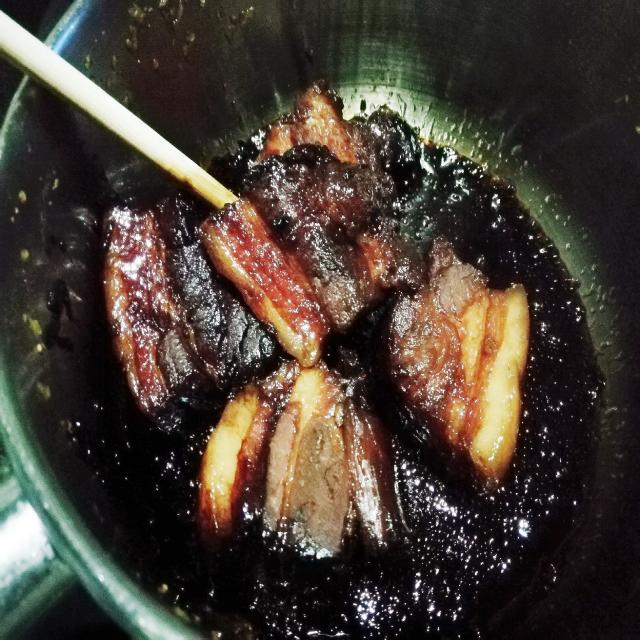overcooked pork: (189, 341, 409, 587), (203, 134, 423, 375), (370, 217, 538, 506), (96, 163, 279, 426)
